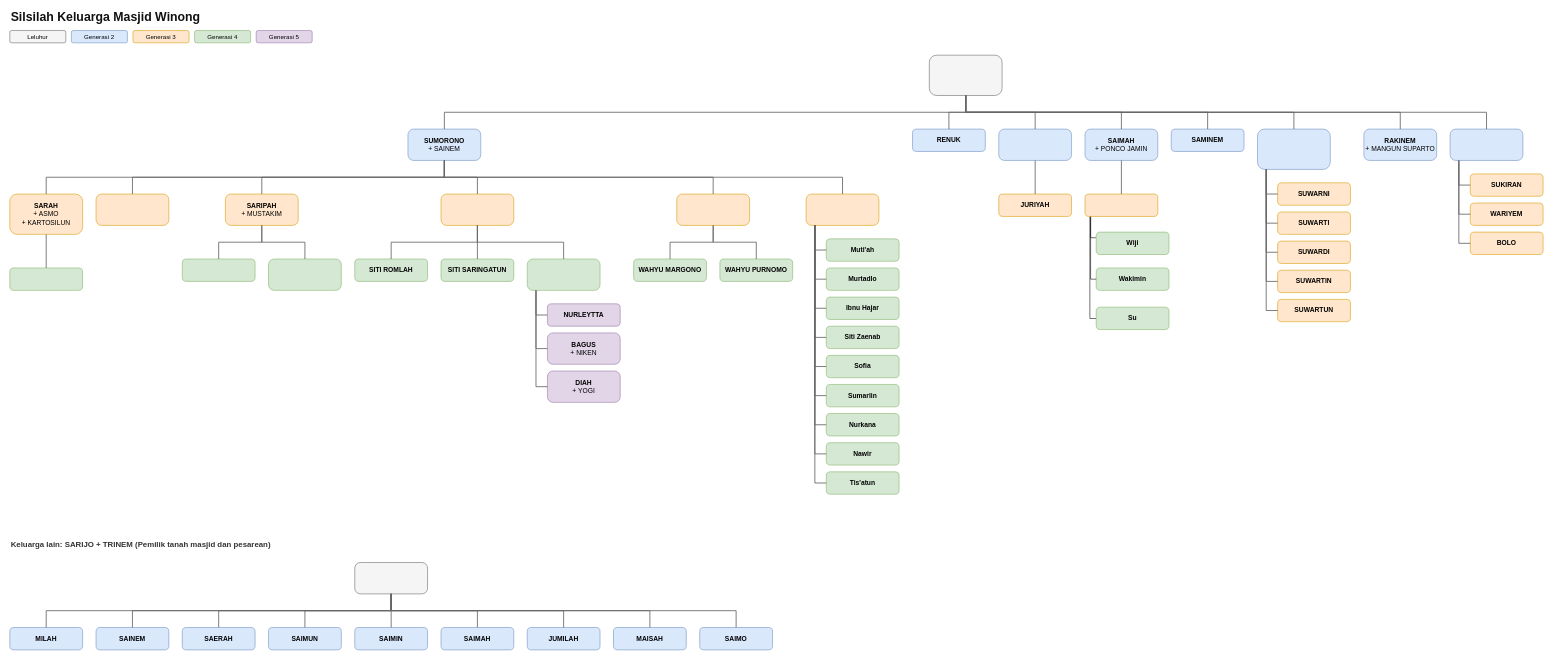
The diagram is 1553 pixels wide and 660 high, and some of its shapes have lost their labels. Each missing label, with the box of its shape:
BARI + SUWARTI: (676, 193, 750, 225)
KAKAK SIH WALUYO: (182, 258, 255, 281)
RAKIMAN / MOCH SOCHEH + SUWUH: (1257, 129, 1330, 169)
SAILAH + SARBAN: (998, 129, 1072, 160)
SARIJO + TRINEM: (354, 562, 428, 594)
SARJU: (9, 267, 83, 290)
SIH WALUYO + JUMIRAH: (268, 258, 341, 290)
SOLEMAN: (1084, 193, 1158, 216)
SUKIJAH + IMAM REDJO: (440, 193, 514, 225)
SUKINEM + AHMAD DIRAN: (1450, 129, 1523, 160)
SUTRISNO + ZUBAIDAH: (527, 258, 600, 290)
TASLIM + KOTIJAH: (95, 193, 169, 225)
Tjo Karjo / Moh Tojib + SAINAH: (929, 55, 1002, 95)
WADRI + SITUN: (806, 193, 879, 225)
